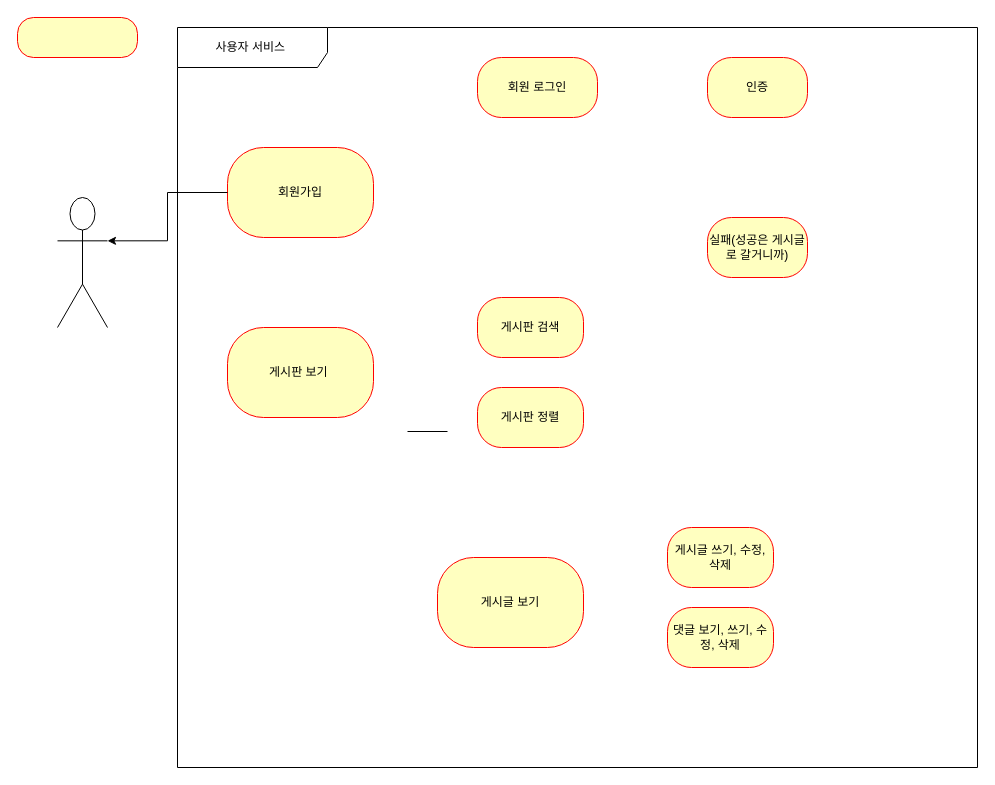
Some shapes in this 995 by 785 pixel diagram are drawn without their labels. Each missing label, with the centre of its shape:
Actor: the point at 82,262
도메인 모델 설계: the point at 77,37
